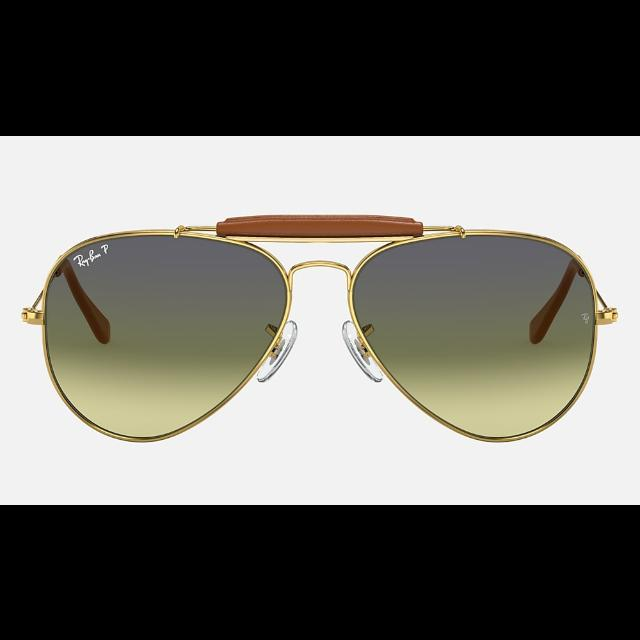Sunglasses: (21, 214, 620, 442)
